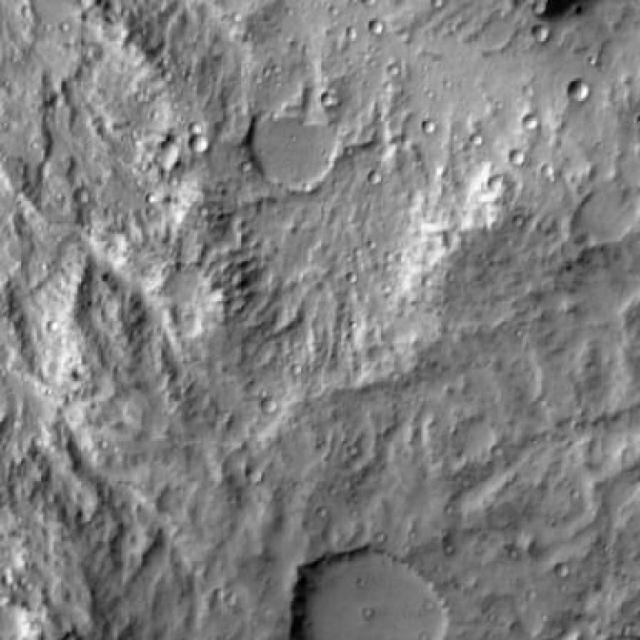crater: (291, 543, 444, 640), (249, 106, 340, 197), (572, 80, 592, 100), (192, 132, 212, 152), (498, 0, 513, 2)
